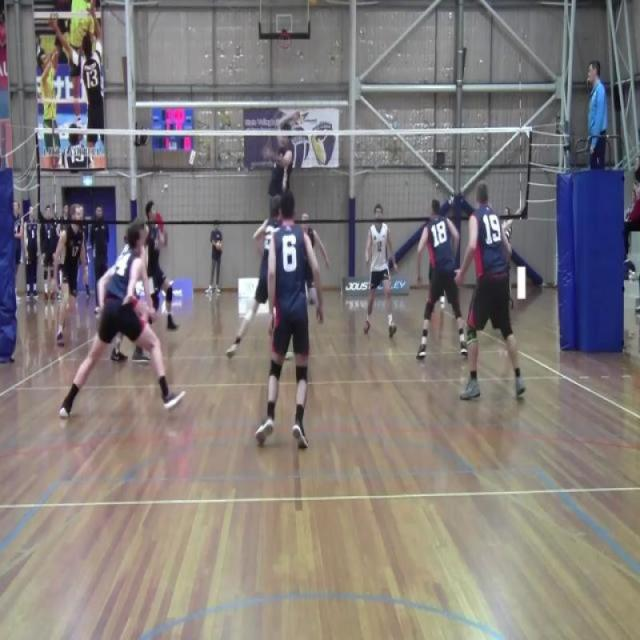volleyball: (306, 0, 320, 8), (215, 239, 222, 252)
